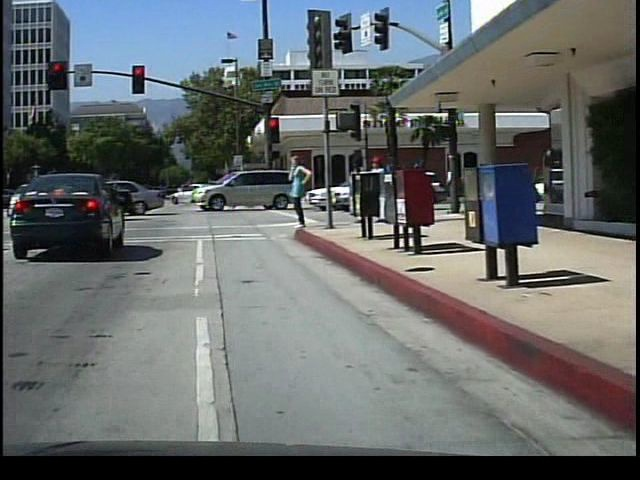person: (287, 147, 317, 230), (365, 150, 391, 223), (344, 149, 367, 222)
